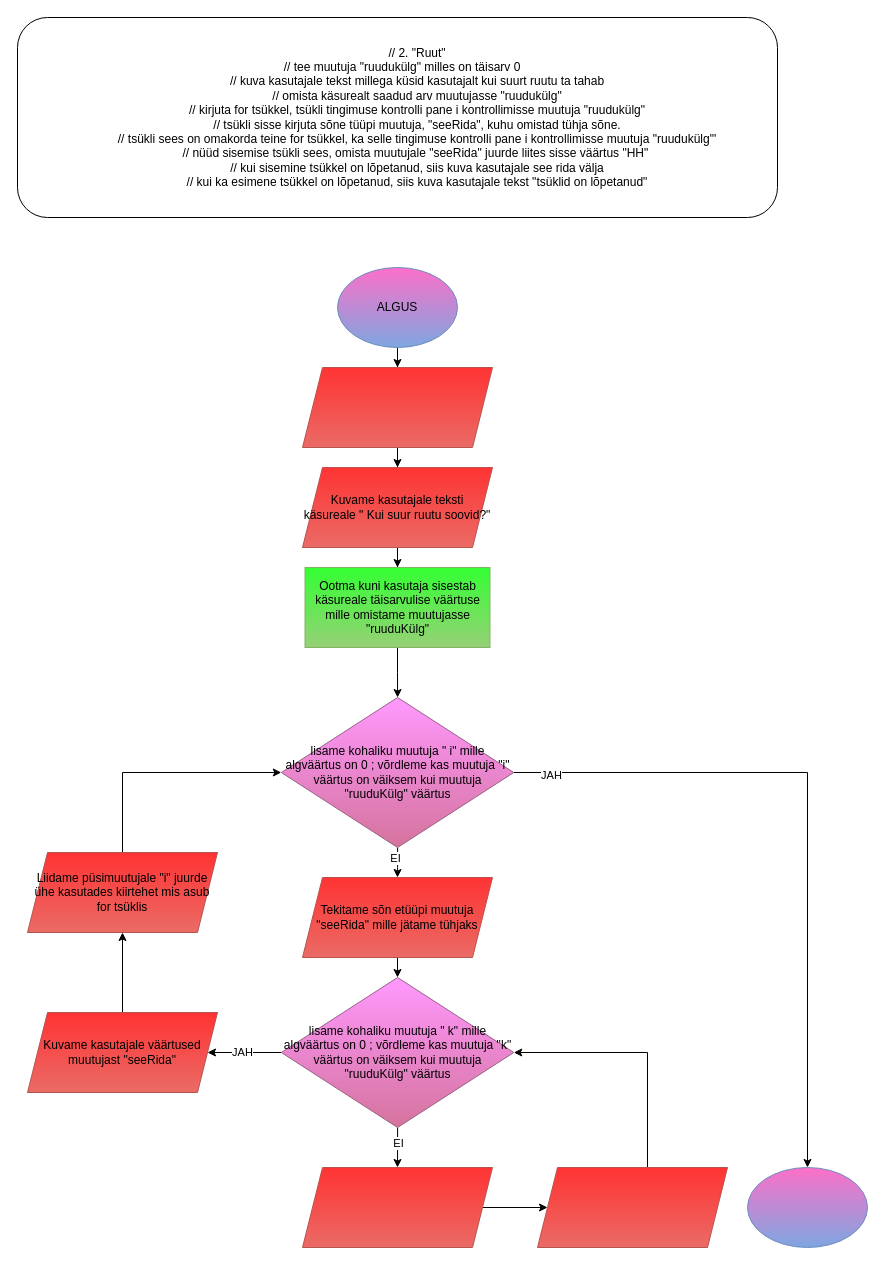
This 885x1265 diagram has some shape labels left out. Here are the shapes that lost their labels. From the top down, the centre of each, then its label:
point (397, 407): Tekitame täisarvulise muutuja "ruuduKülg" ja omistae selle algväärtuseks 0
point (397, 1207): Lisame sõne tüüpi muutujasse "seeRida" sõne tüüpi andmeid "HH" (+=)
point (632, 1207): Kohalikule muutujale k liidetakse juurde kiirtehte abil k++ mis asub for tsüklis
point (807, 1207): LÕPP
